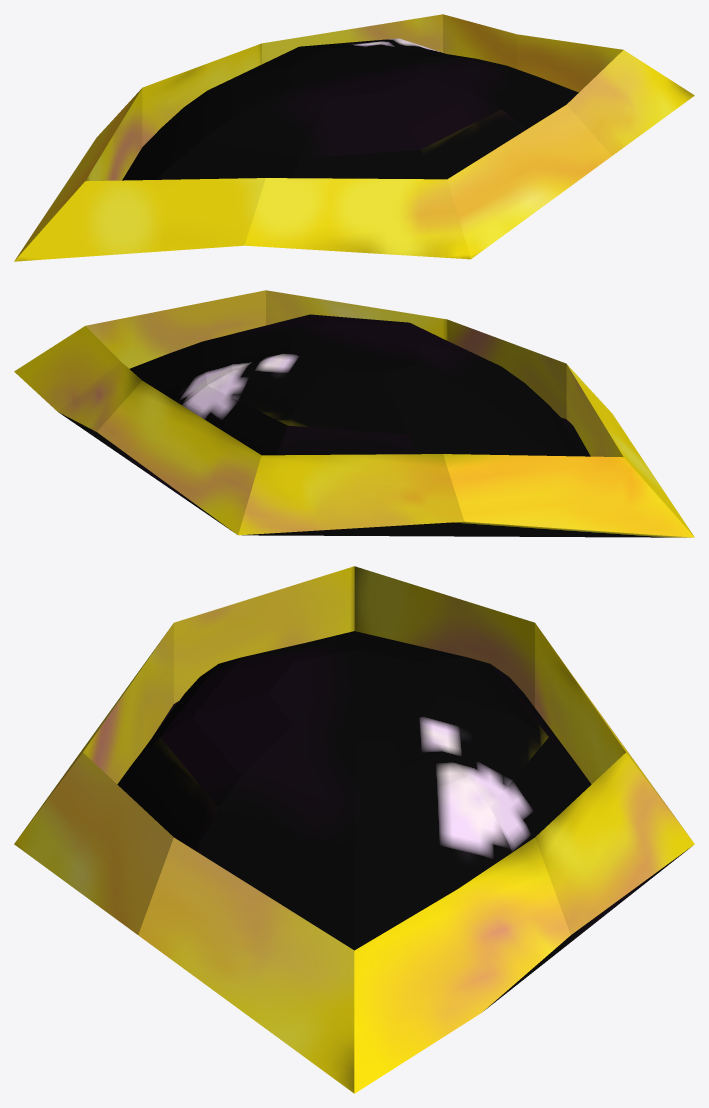
The model's file is WallGreeble02.fbx.
The picture shows the model from 3 angles, top to bottom: view 1: azimuth 30°, elevation 25°; view 2: azimuth 150°, elevation 25°; view 3: azimuth 270°, elevation 25°; orthographic projection. The views are drawn at different scales.
Visible parts, largest first — view 1: Cone; view 2: Cone; view 3: Cone.
Part boxes in pixels (box(x1,y1,x2,y2)): Cone: box(14, 14, 694, 261); Cone: box(14, 290, 694, 537); Cone: box(14, 566, 694, 1093).
Bounding box in the file's own units: 264 × 39.88 × 156.
